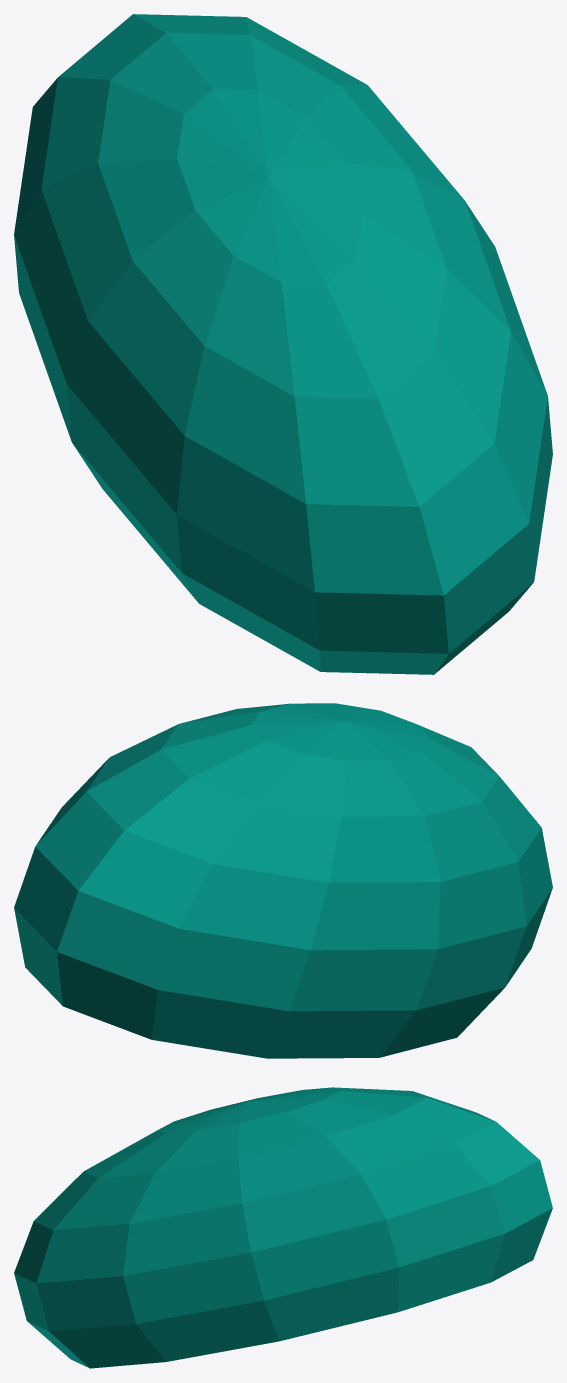
File: n5_group1825502669_lev5.001.glb
The picture shows the model from 3 angles, top to bottom: view 1: azimuth 30°, elevation 25°; view 2: azimuth 150°, elevation 25°; view 3: azimuth 270°, elevation 25°; orthographic projection. The views are drawn at different scales.
Visible parts, largest first — view 1: n5_group1825502669_lev5.001; view 2: n5_group1825502669_lev5.001; view 3: n5_group1825502669_lev5.001.
Boxes of the visible parts, <box> form: n5_group1825502669_lev5.001: <box>14,14,552,674</box>; n5_group1825502669_lev5.001: <box>14,703,552,1058</box>; n5_group1825502669_lev5.001: <box>14,1087,552,1368</box>.
Bounding box in the file's own units: 1.02 × 1.05 × 1.91.
